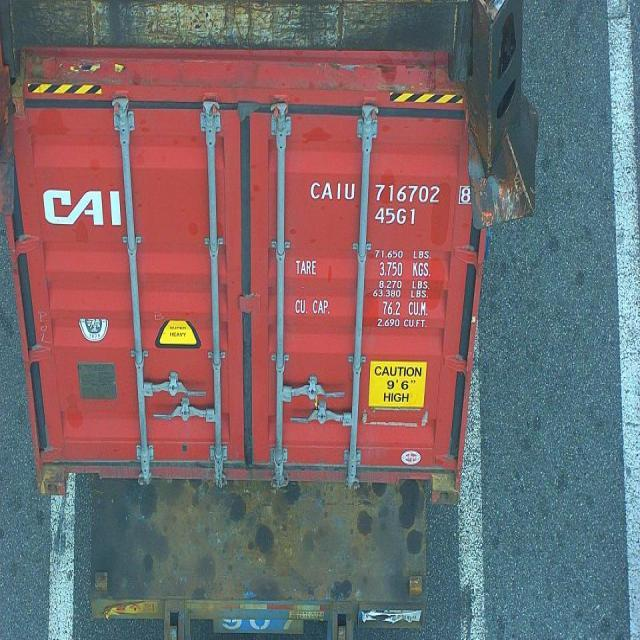ISO: (374, 208, 420, 225)
container_number: (310, 177, 472, 210)
